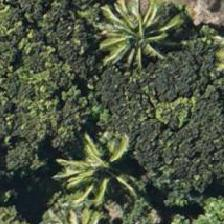coconut_tree: (48, 111, 138, 201), (87, 0, 177, 90)
